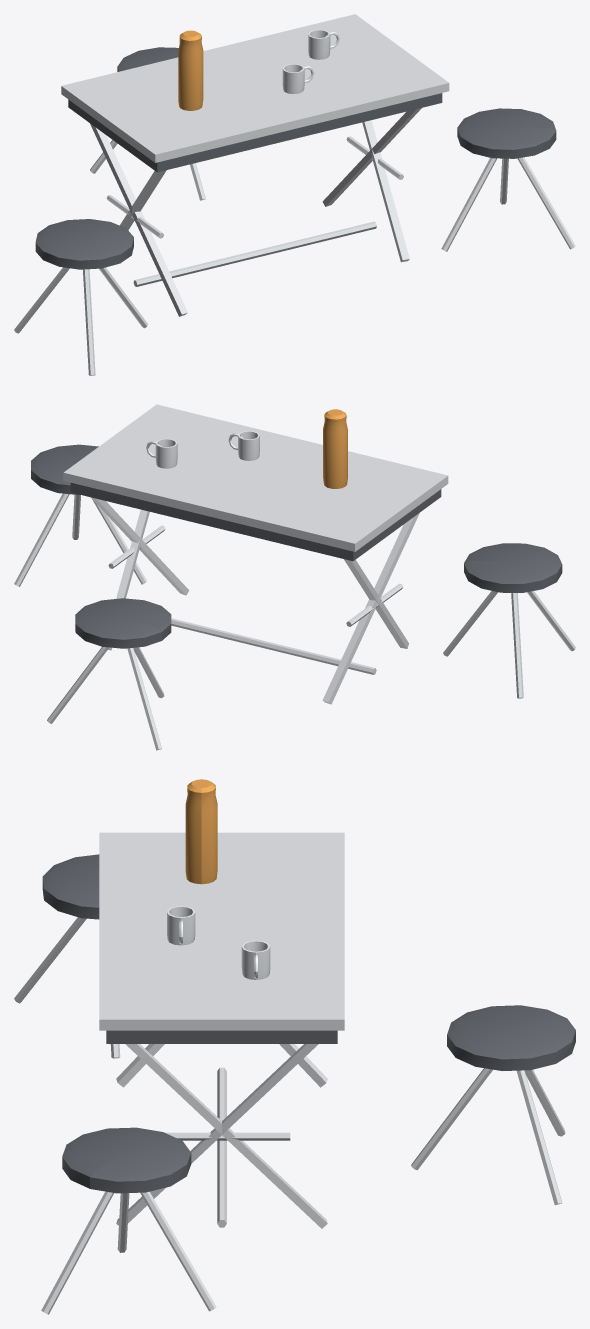
The model's file is mountaineering-and-summit-expedition-camp-table-with-s-f8ad6ec8__18801.glb.
The picture shows the model from 3 angles, top to bottom: view 1: azimuth 30°, elevation 25°; view 2: azimuth 150°, elevation 25°; view 3: azimuth 270°, elevation 25°; orthographic projection. The views are drawn at different scales.
Parts seen in each view (by area): view 1: camp-table-with-stools; view 2: camp-table-with-stools; view 3: camp-table-with-stools.
Part boxes in pixels (box(x1,y1,x2,y2)): camp-table-with-stools: box(14, 14, 575, 375); camp-table-with-stools: box(14, 404, 575, 750); camp-table-with-stools: box(14, 779, 575, 1314).
Bounding box in the file's own units: 2.28 × 1.06 × 1.65.
